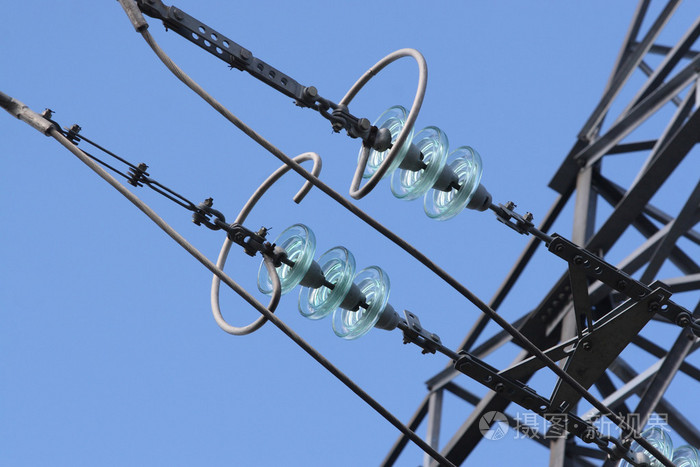insulator: (257, 225, 393, 342), (357, 108, 485, 221), (623, 428, 700, 464)
